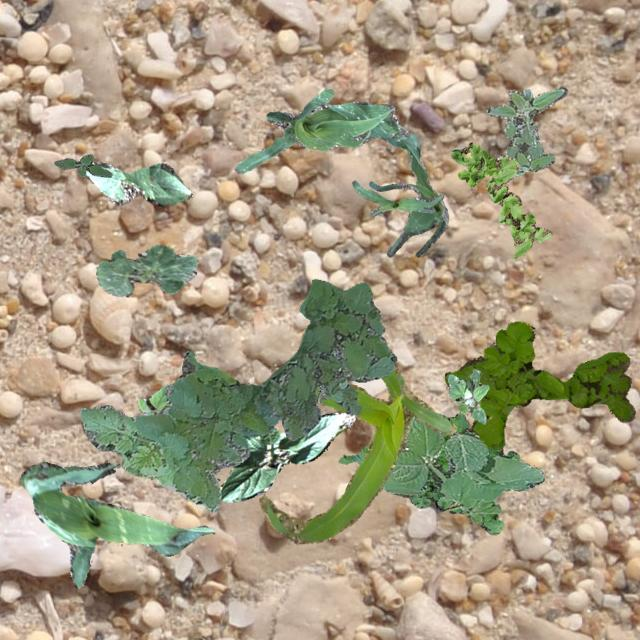crop: (258, 364, 456, 542), (20, 460, 214, 588), (234, 88, 408, 172), (218, 412, 354, 502), (368, 132, 448, 256), (95, 243, 196, 296), (84, 160, 190, 206), (352, 180, 442, 216)
weed: (78, 278, 396, 511), (443, 321, 634, 448), (338, 411, 518, 534), (382, 414, 544, 522), (449, 142, 552, 258), (484, 86, 566, 176), (447, 368, 488, 424), (52, 154, 110, 176), (136, 384, 168, 414), (314, 383, 330, 402)
